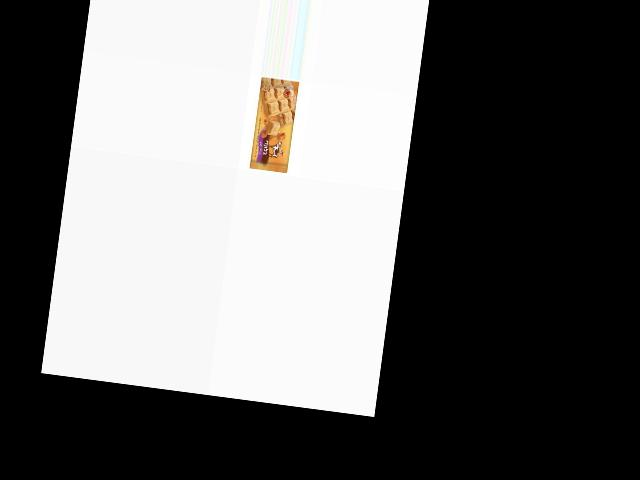chocolate: (246, 76, 298, 176)
